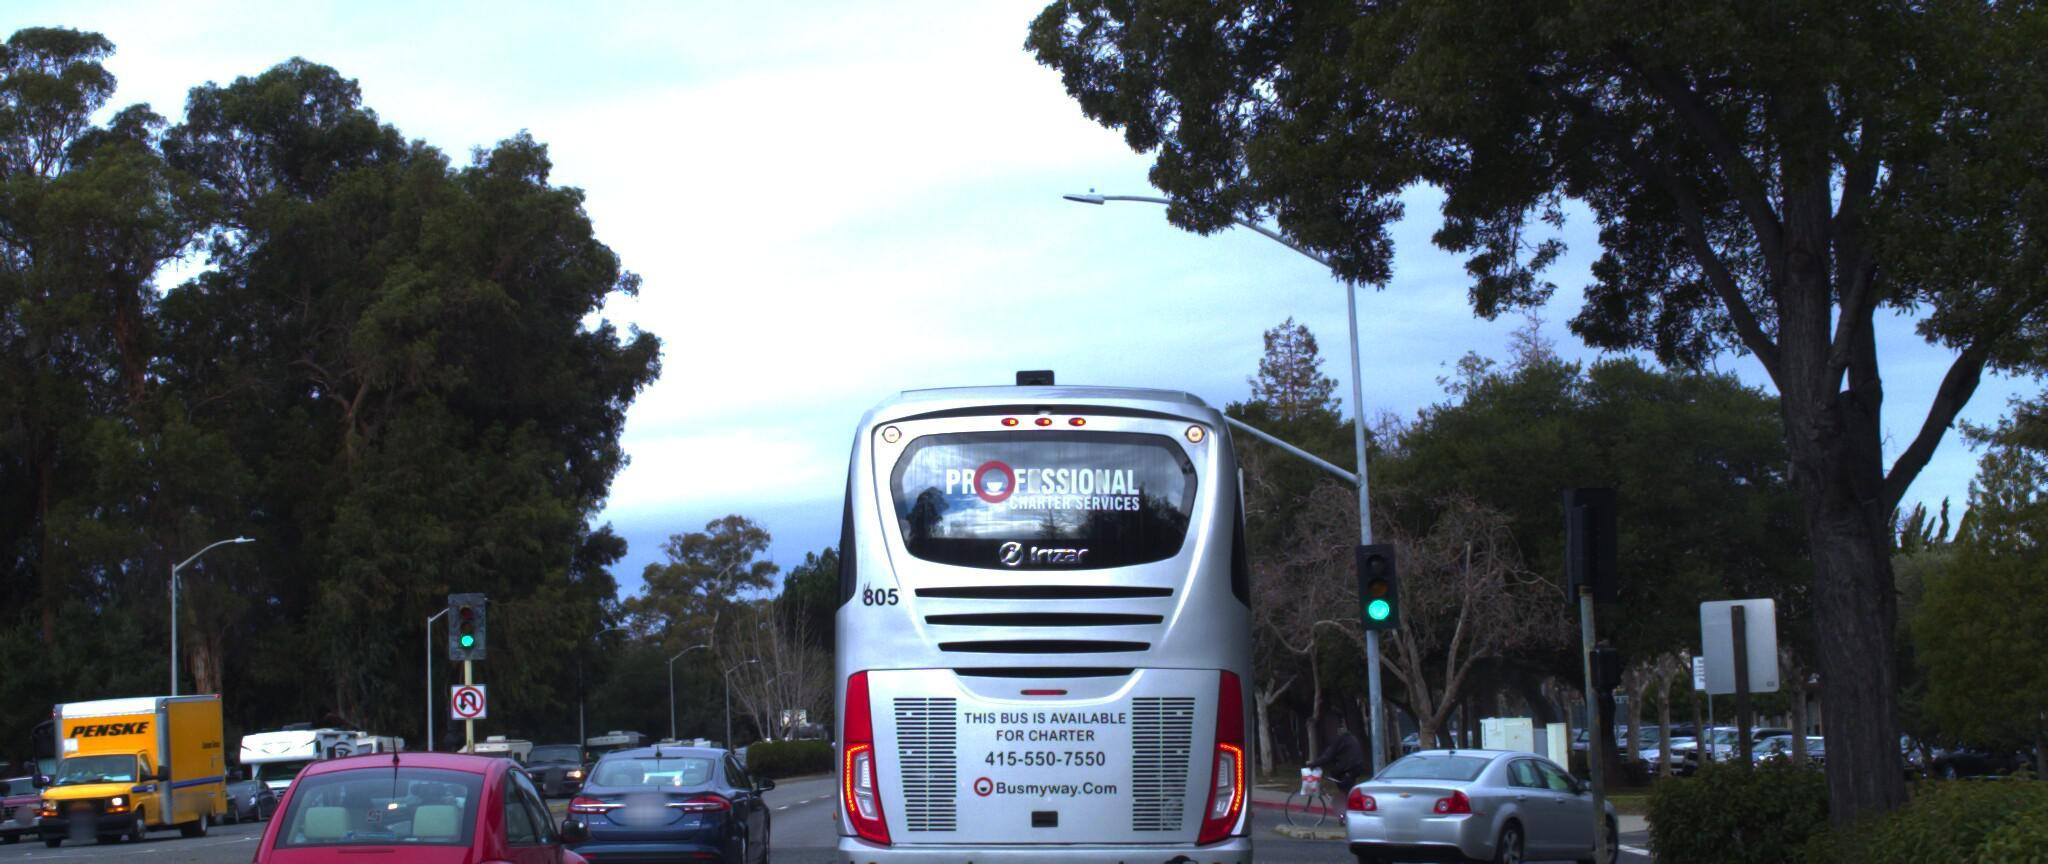bicycle: (1271, 701, 1383, 827)
bus: (797, 354, 1327, 864)
car: (189, 750, 643, 864), (1301, 728, 1614, 864), (552, 735, 773, 864), (0, 760, 85, 844), (0, 762, 5, 850)
truck: (14, 688, 249, 856)
